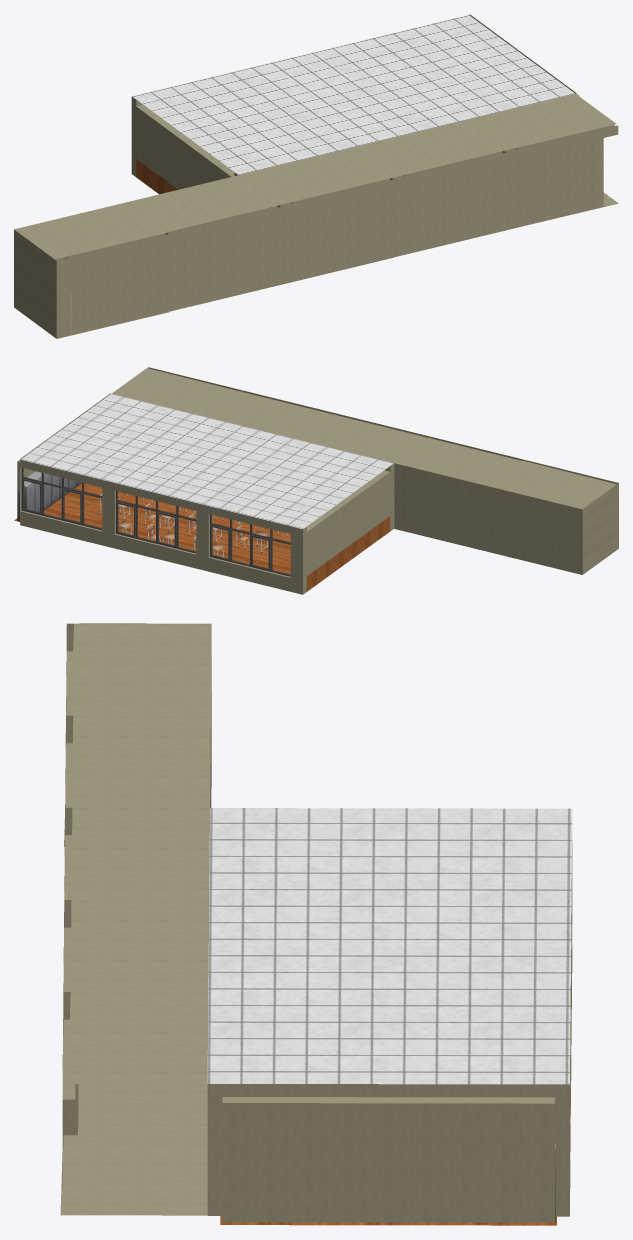
Rendered from salon.glb.
3 renders of one model, top to bottom at view 1: azimuth 30°, elevation 25°; view 2: azimuth 150°, elevation 25°; view 3: azimuth 270°, elevation 25°, orthographic. The views are drawn at different scales.
Visible parts, largest first — view 1: Cube.011, Cube.022, wood_low; view 2: Cube.011, Cube.022, Cube.021, Cube.003, wood_low, cabinet.003; view 3: Cube.011, Cube.022, Cube.021.
Part boxes in pixels (x1=…): Cube.011: x1=14, y1=14, x2=618, y2=338; Cube.022: x1=132, y1=15, x2=575, y2=174; wood_low: x1=136, y1=159, x2=177, y2=194; Cube.011: x1=17, y1=367, x2=618, y2=594; Cube.022: x1=21, y1=393, x2=393, y2=529; Cube.021: x1=14, y1=483, x2=290, y2=574; Cube.003: x1=21, y1=468, x2=290, y2=576; wood_low: x1=306, y1=516, x2=390, y2=591; cabinet.003: x1=17, y1=471, x2=81, y2=521; Cube.011: x1=60, y1=623, x2=572, y2=1222; Cube.022: x1=207, y1=808, x2=572, y2=1084; Cube.021: x1=220, y1=1216, x2=556, y2=1225.
Size of the model in its own units: 90.01 by 11.92 by 41.36.
Materials: 18 (9 with a texture image).
